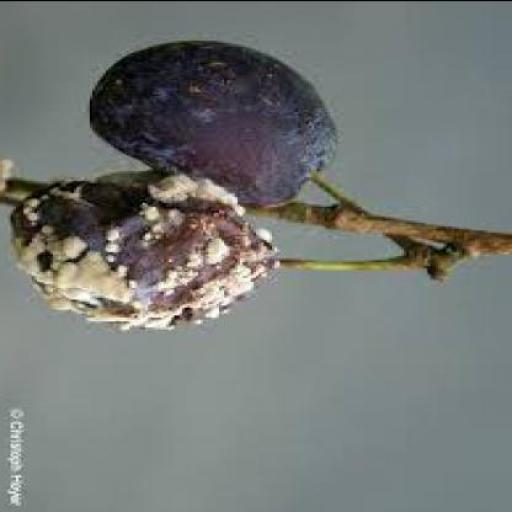biodegradable: (13, 170, 282, 330), (95, 36, 343, 203)
